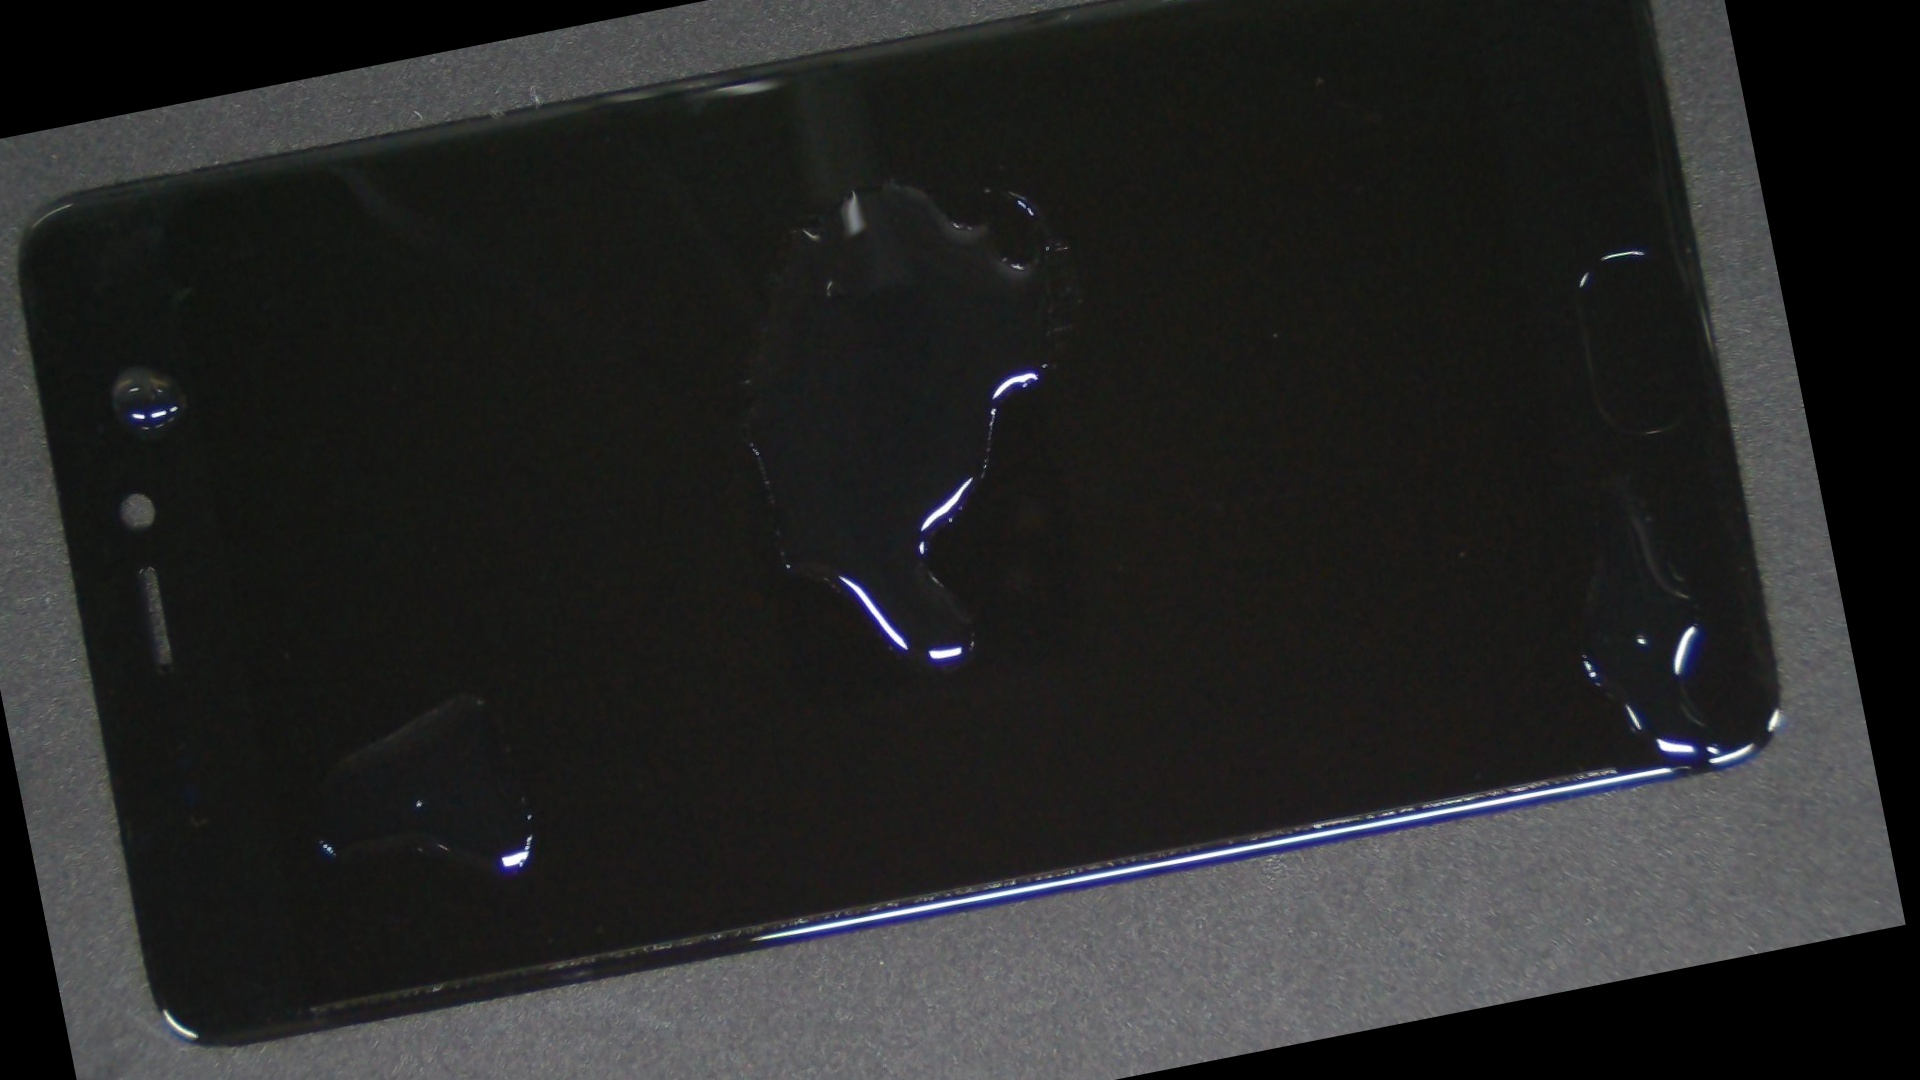oil: (756, 121, 1871, 944), (179, 339, 745, 1050), (380, 0, 1345, 377), (15, 225, 249, 508)
